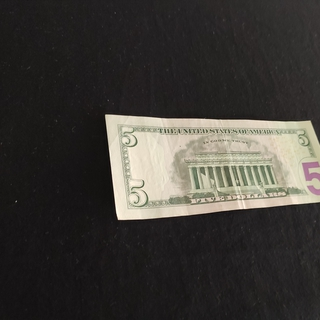5USDBack: (103, 113, 320, 221)
